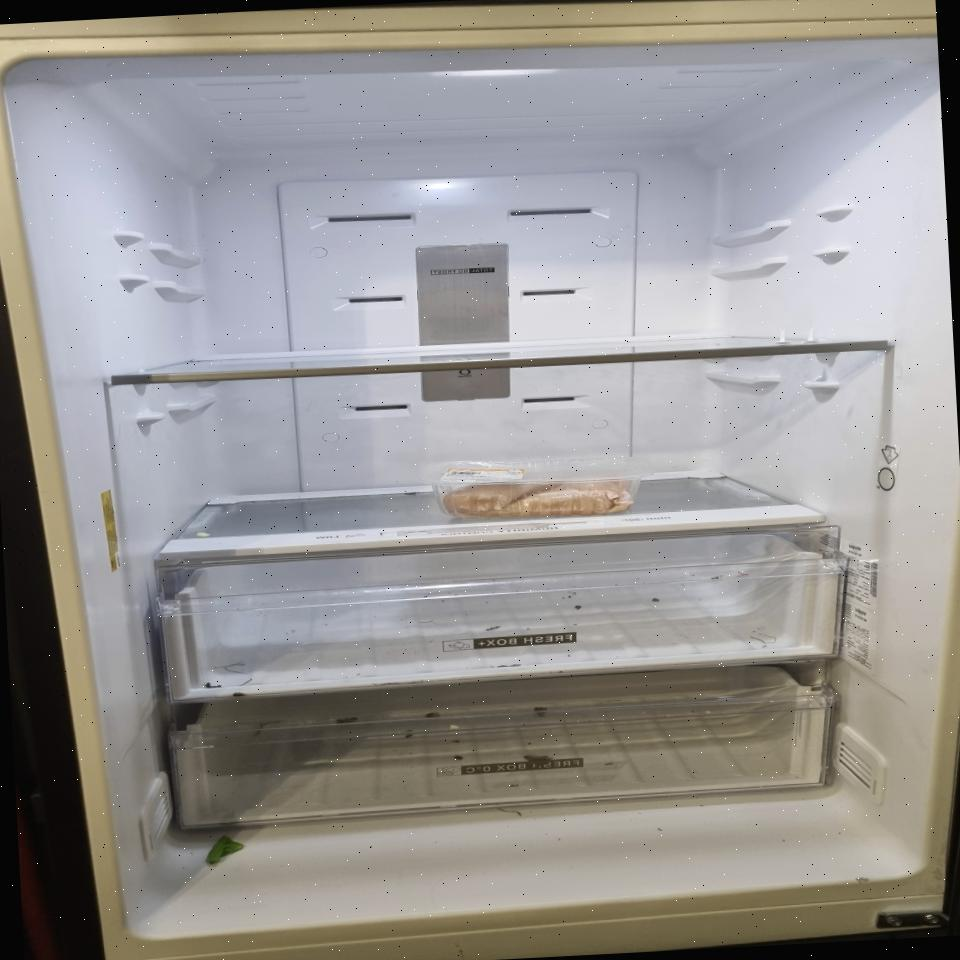Carne pollo: (431, 454, 652, 521)
